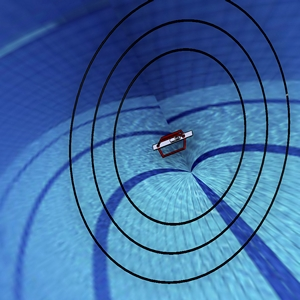circle: (62, 1, 296, 294)
submarine: (140, 110, 198, 166)
